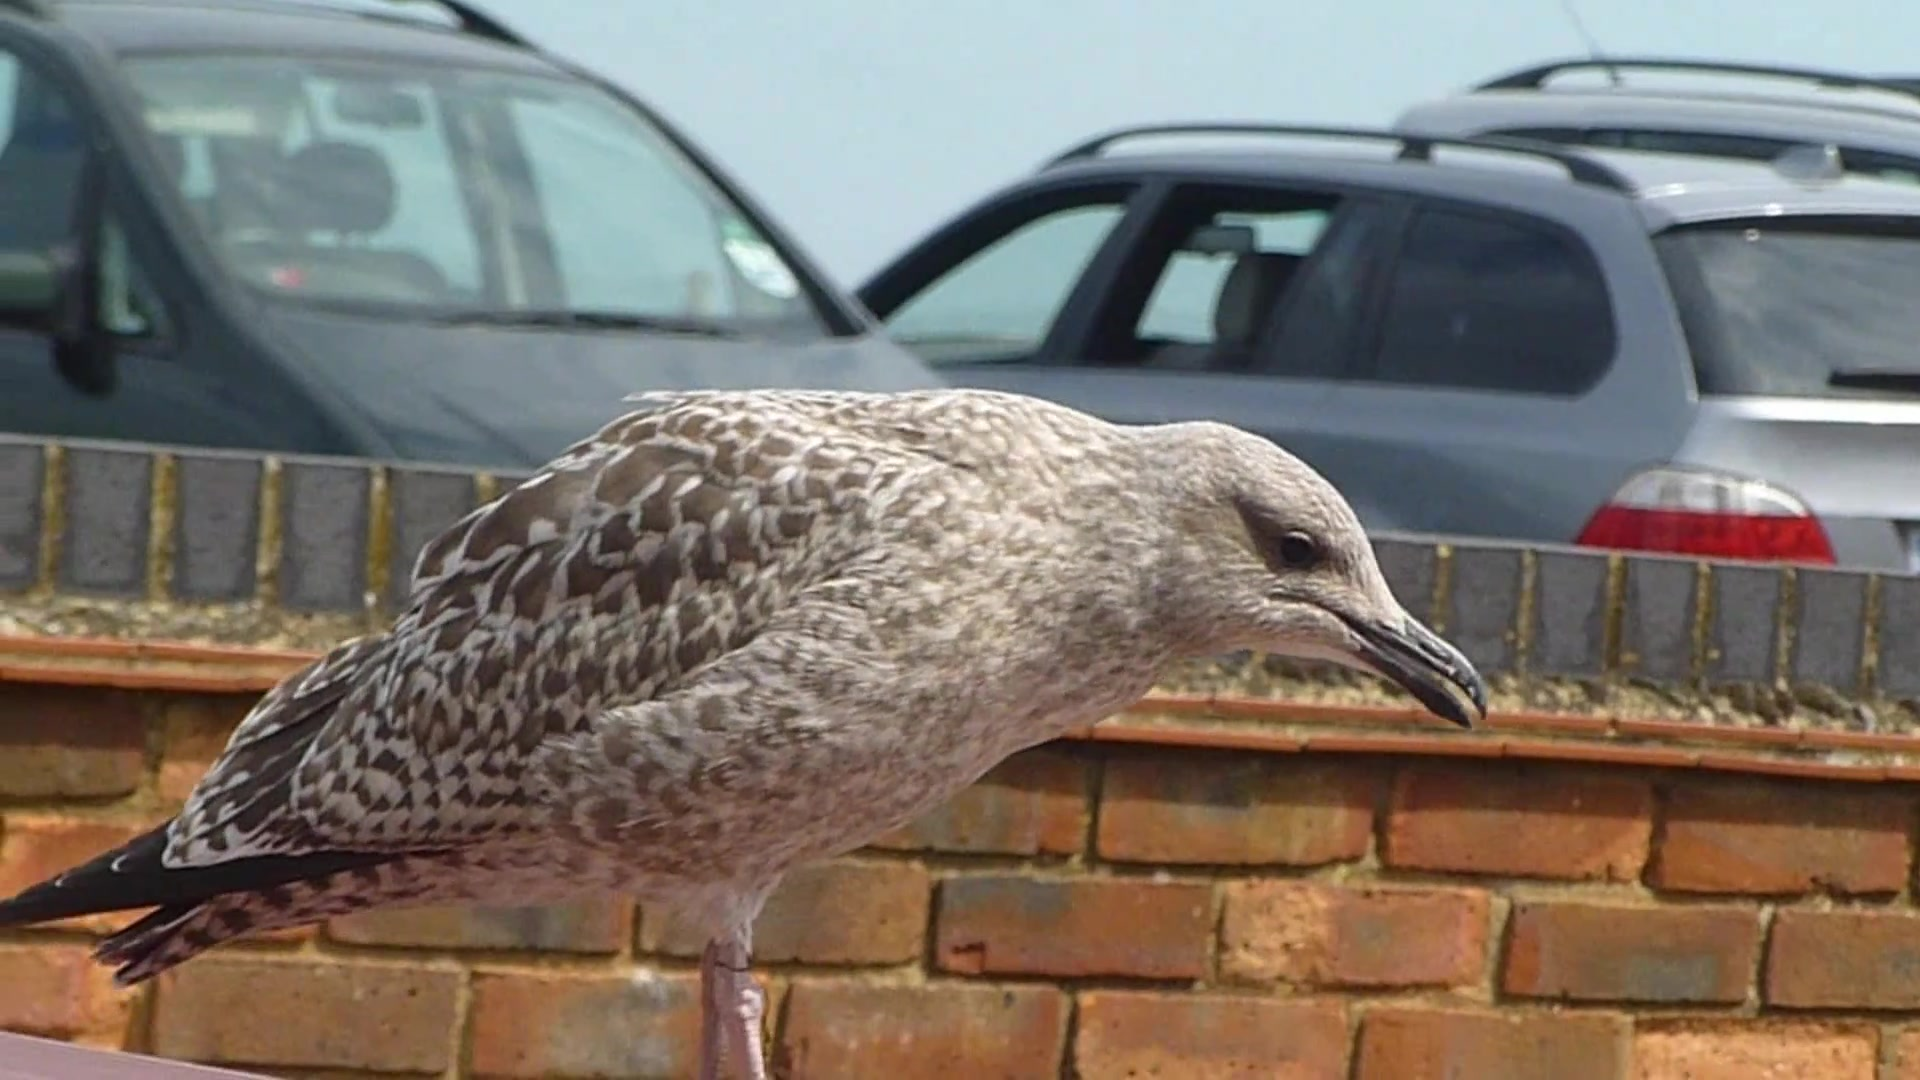bird: (5, 385, 1495, 1077)
